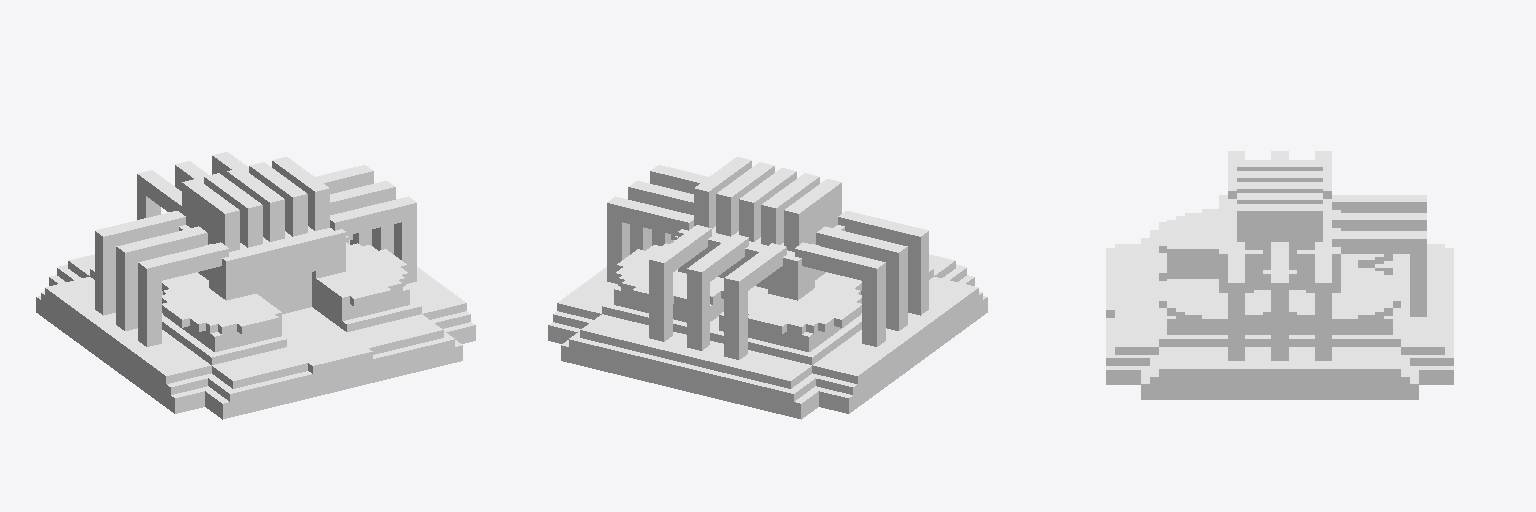
The model's file is headquater.obj.
3 views of the same model, side by side, from view 1: azimuth 30°, elevation 25°; view 2: azimuth 150°, elevation 25°; view 3: azimuth 270°, elevation 25° (orthographic).
Visible parts, largest first — view 1: headquater; view 2: headquater; view 3: headquater.
Boxes of the visible parts, <box> form: headquater: <box>36,152,475,419</box>; headquater: <box>548,157,987,419</box>; headquater: <box>1106,151,1453,399</box>.
Size of the model in its own units: 80 by 36 by 80.